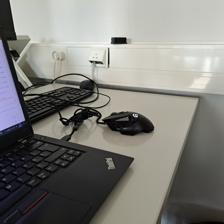mouse: (101, 109, 156, 136)
